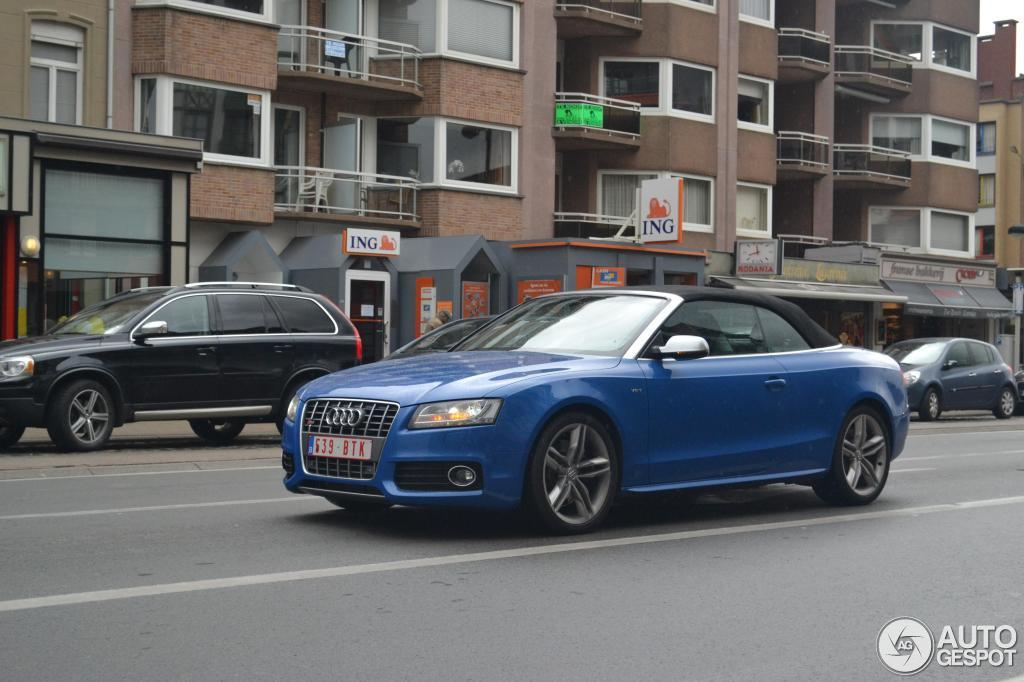Audi: (322, 400, 368, 433)
